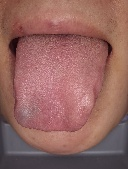tongue: (13, 38, 109, 133)
